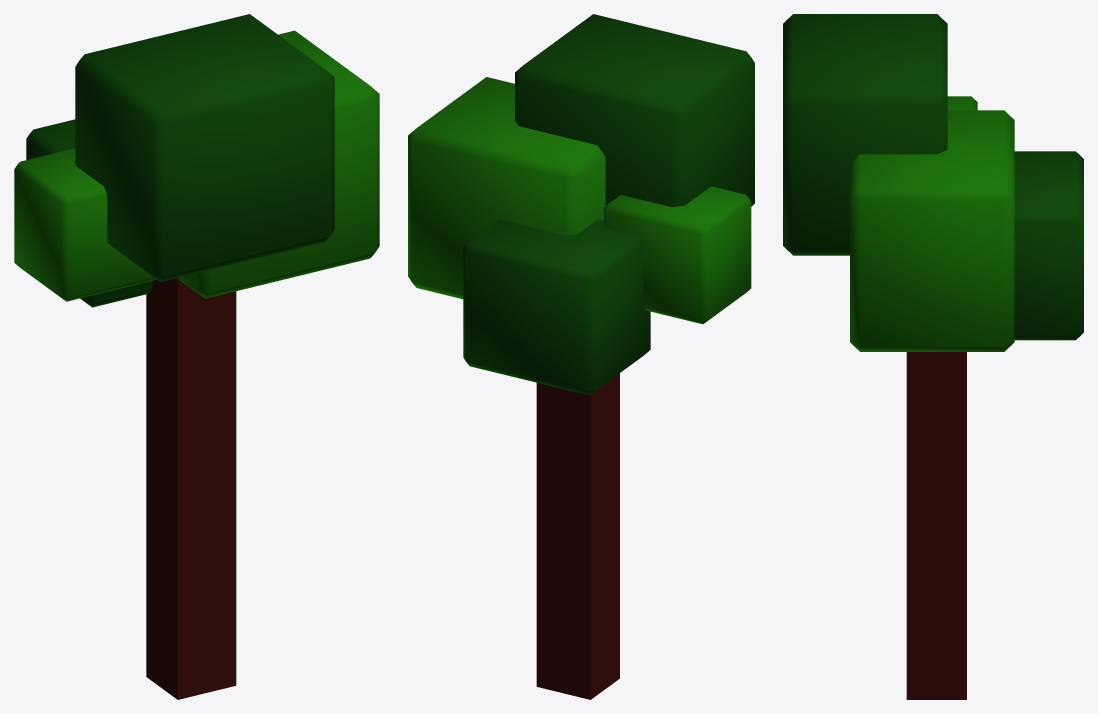
The model's file is tree.FBX.
The picture shows the model from 3 angles, left to right: view 1: azimuth 30°, elevation 25°; view 2: azimuth 150°, elevation 25°; view 3: azimuth 270°, elevation 25°; orthographic projection. The views are drawn at different scales.
Parts seen in each view (by area): view 1: ChamferBox001; view 2: ChamferBox001; view 3: ChamferBox001.
Boxes of the visible parts, bbox=[...] form: ChamferBox001: bbox=[14, 14, 379, 699]; ChamferBox001: bbox=[408, 14, 754, 699]; ChamferBox001: bbox=[783, 14, 1083, 699].
Size of the model in its own units: 332 by 676 by 296.
